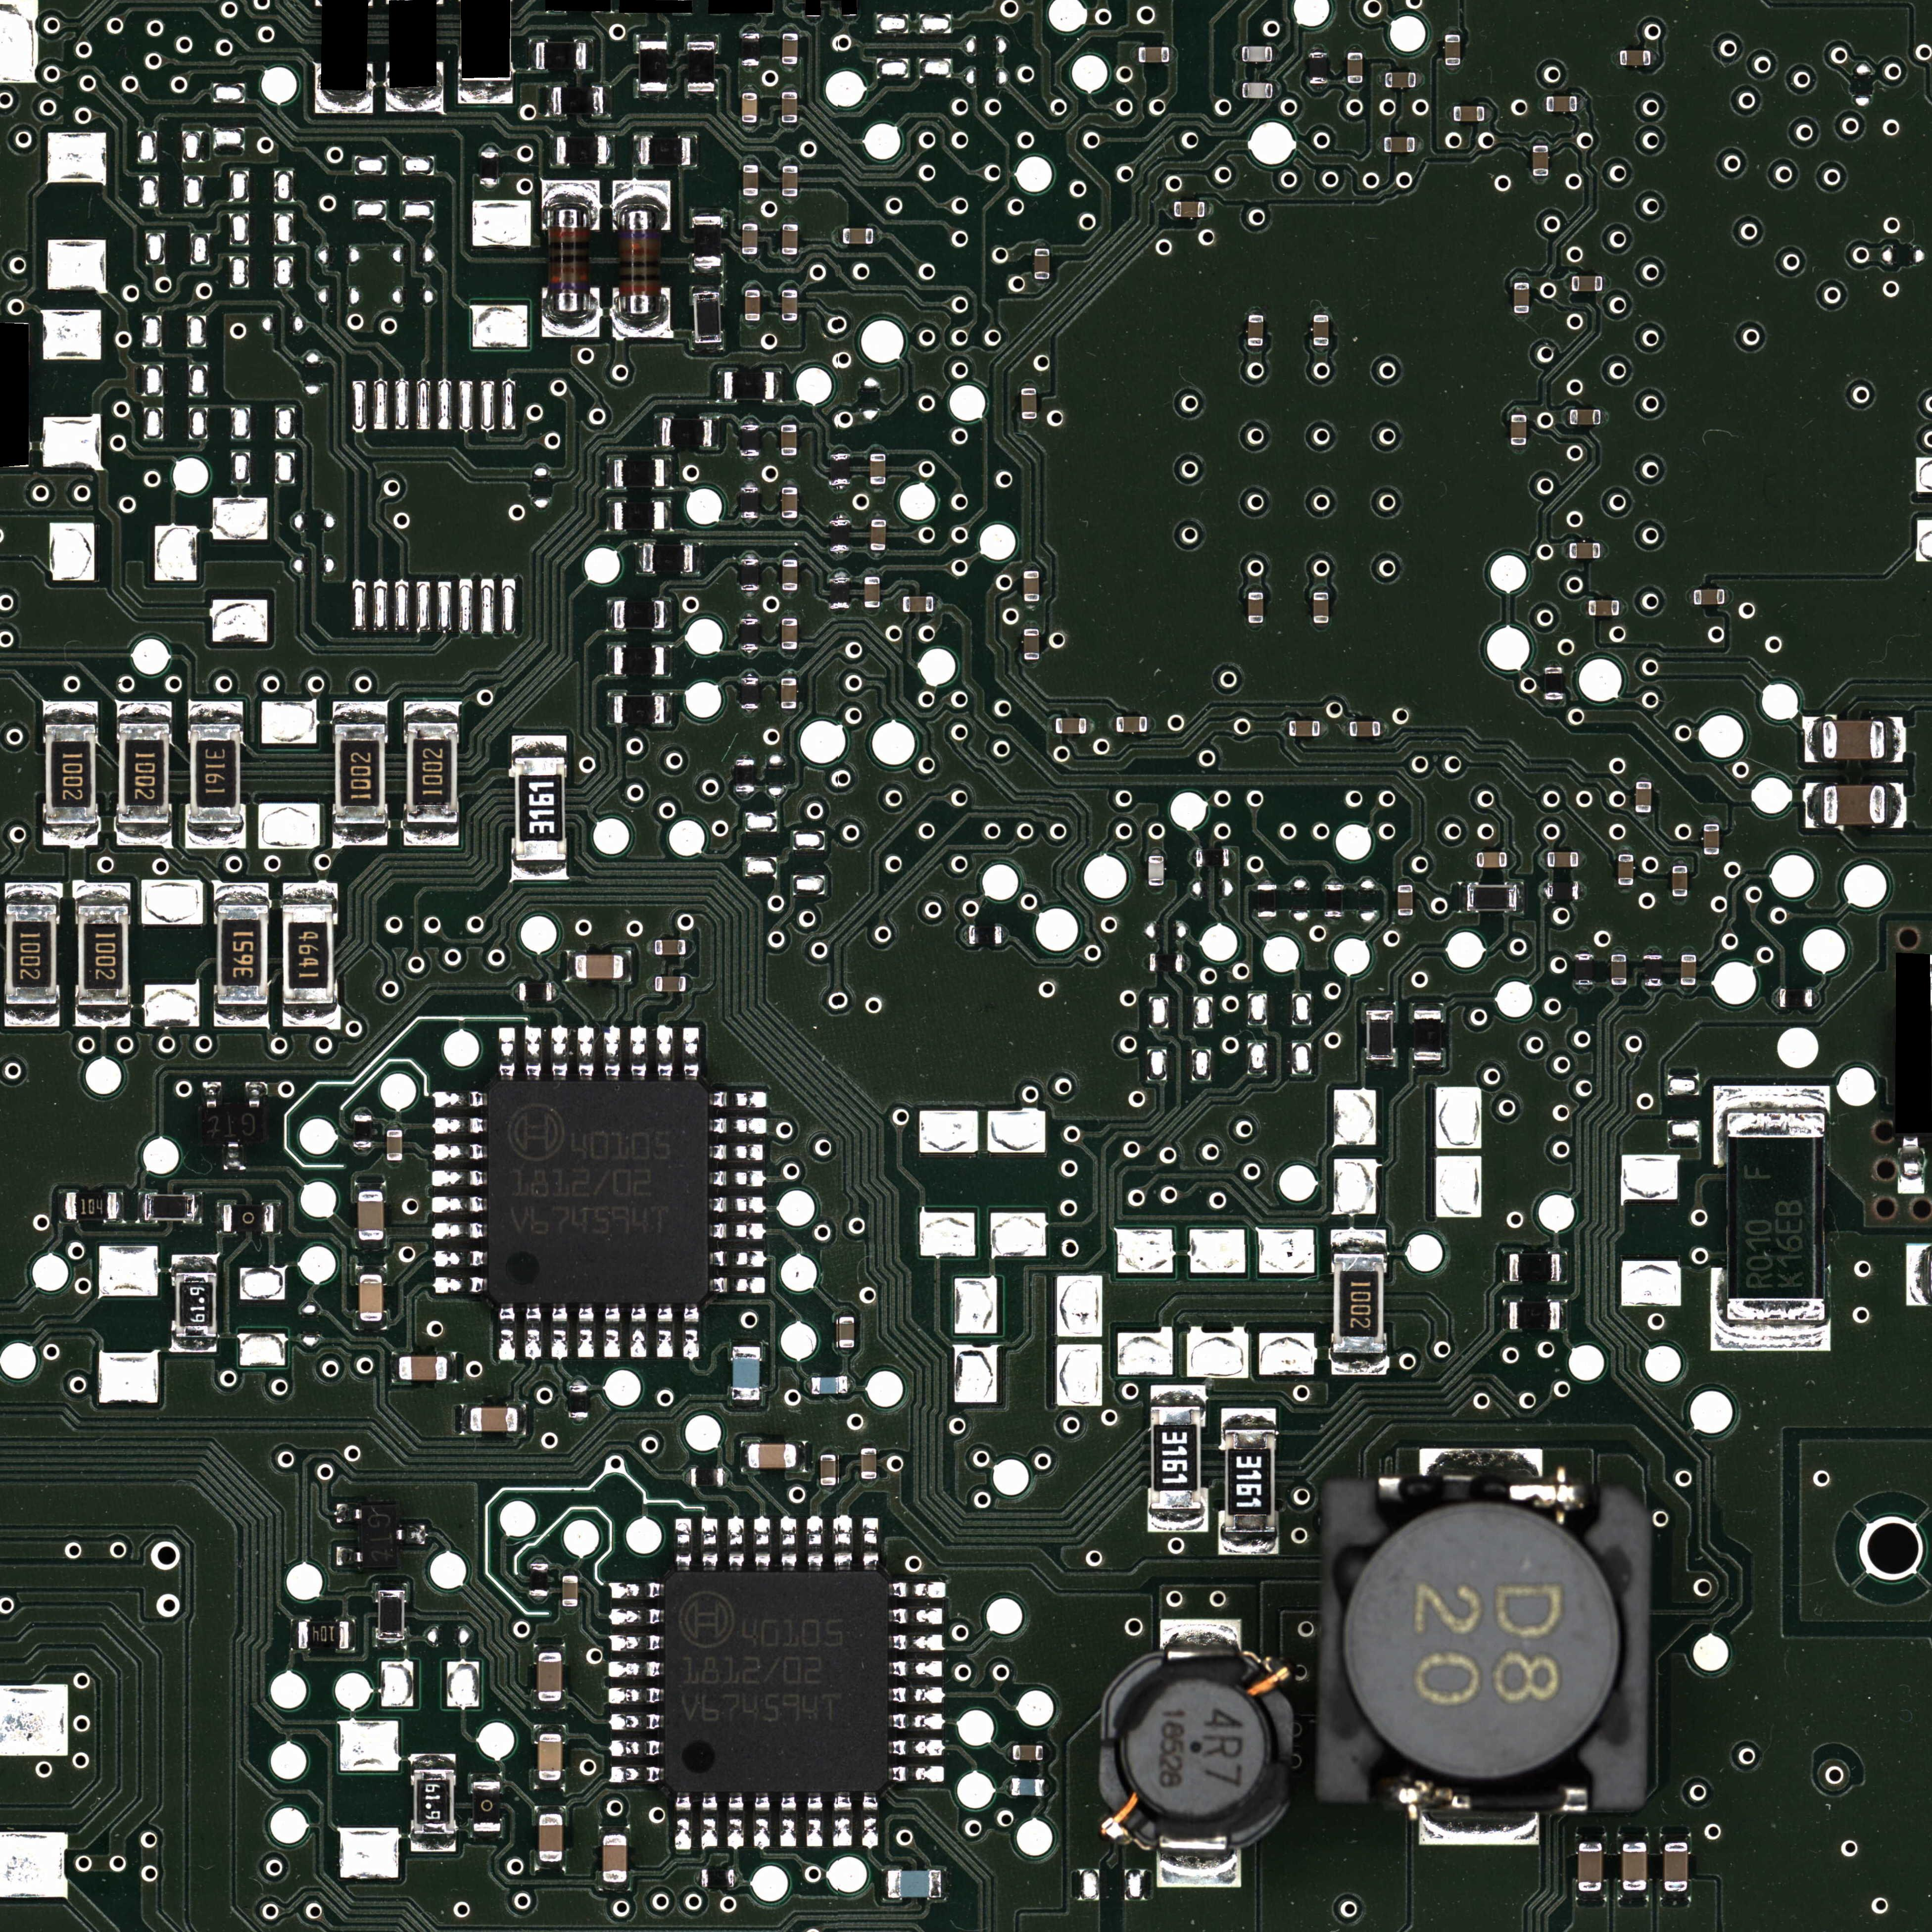Package: (1322, 1479, 1649, 1812), (663, 1571, 890, 1794), (488, 1079, 709, 1304), (1102, 1660, 1292, 1851), (1727, 1113, 1824, 1320), (1223, 1430, 1276, 1532), (513, 757, 566, 860), (1150, 1407, 1203, 1509), (405, 722, 458, 823), (1332, 1253, 1385, 1353), (189, 724, 242, 823), (44, 724, 96, 824), (334, 724, 386, 823), (78, 906, 129, 1005), (119, 724, 170, 823), (216, 906, 267, 1003), (283, 906, 334, 1003), (617, 205, 662, 317), (7, 904, 57, 1003), (547, 205, 591, 315), (412, 1769, 455, 1835), (175, 1272, 216, 1338), (1822, 720, 1886, 759), (1822, 786, 1886, 824), (361, 1504, 396, 1568), (888, 1870, 941, 1898), (614, 600, 663, 630), (639, 41, 667, 92), (732, 1346, 759, 1399), (299, 1621, 349, 1649), (472, 1782, 501, 1831), (694, 216, 722, 265), (554, 87, 603, 115), (614, 695, 663, 724), (614, 648, 663, 676), (1414, 1010, 1442, 1060), (724, 372, 773, 400), (223, 1205, 274, 1231), (688, 41, 715, 92), (1509, 1302, 1560, 1329), (694, 292, 720, 343), (65, 1192, 117, 1219), (1509, 1254, 1560, 1281), (642, 545, 694, 571), (557, 138, 607, 165), (536, 42, 586, 69), (662, 419, 711, 446), (357, 1191, 384, 1240), (640, 138, 690, 165), (1366, 1010, 1392, 1060), (614, 460, 663, 487), (614, 502, 663, 529), (145, 1194, 195, 1221), (379, 1591, 405, 1640), (1622, 1842, 1647, 1891), (1578, 1842, 1603, 1891), (1663, 1844, 1688, 1891), (471, 1407, 518, 1431), (748, 1444, 796, 1468), (538, 1734, 563, 1780), (398, 1357, 448, 1380), (538, 1652, 561, 1702), (1467, 886, 1516, 909), (575, 955, 623, 978), (540, 1813, 563, 1861), (359, 1274, 382, 1322), (603, 1835, 626, 1882), (518, 982, 552, 1001), (812, 1376, 847, 1394), (830, 520, 849, 552), (1780, 989, 1812, 1008), (479, 152, 499, 184), (702, 1868, 734, 1888), (1575, 954, 1594, 985), (970, 925, 1001, 945), (529, 1564, 548, 1596), (830, 453, 849, 485), (1545, 667, 1564, 699), (1196, 849, 1230, 867), (830, 579, 849, 609), (1012, 1778, 1044, 1796), (741, 34, 759, 65), (1325, 885, 1343, 916), (692, 1468, 724, 1486), (821, 1454, 839, 1486), (570, 1385, 587, 1417), (1150, 954, 1182, 971), (1258, 885, 1276, 916), (741, 559, 759, 591), (741, 487, 759, 518), (736, 759, 754, 791), (741, 425, 759, 456), (1546, 881, 1578, 899), (354, 1115, 372, 1146), (741, 678, 759, 708), (1635, 782, 1652, 812), (1309, 53, 1327, 83), (741, 619, 759, 649), (1644, 955, 1661, 985), (780, 678, 796, 709), (655, 977, 686, 993), (655, 939, 686, 955), (1672, 865, 1688, 897), (782, 617, 798, 649), (1247, 315, 1263, 347), (1571, 276, 1603, 292), (1012, 1744, 1044, 1760), (1021, 387, 1037, 419), (1619, 50, 1651, 65), (386, 1129, 402, 1161), (1693, 589, 1725, 605), (1033, 248, 1049, 280), (1569, 409, 1601, 425), (902, 596, 934, 612), (741, 223, 757, 255), (870, 453, 886, 485), (782, 559, 798, 591), (782, 487, 798, 518), (839, 1316, 855, 1348), (1511, 414, 1527, 446), (1398, 885, 1414, 916), (1589, 600, 1619, 616), (563, 1576, 579, 1606), (1247, 593, 1263, 623), (1290, 720, 1320, 736), (782, 92, 798, 122), (782, 290, 798, 320), (1385, 136, 1415, 152), (1681, 955, 1697, 985), (1175, 202, 1205, 218), (844, 228, 874, 244), (1139, 46, 1169, 62), (782, 34, 798, 64), (1569, 543, 1599, 559), (870, 520, 886, 550), (782, 166, 798, 196), (1242, 46, 1272, 62), (1056, 718, 1086, 734), (1548, 851, 1578, 867), (782, 225, 798, 255), (1313, 315, 1329, 345), (1116, 717, 1146, 732), (1242, 83, 1272, 99), (1477, 851, 1507, 867), (1546, 96, 1576, 111), (745, 290, 761, 320), (1313, 593, 1329, 623), (1532, 145, 1548, 175), (862, 1449, 878, 1479), (1704, 824, 1720, 855), (1023, 571, 1039, 602), (1612, 954, 1626, 985), (1445, 34, 1460, 65), (1024, 628, 1039, 660), (1148, 856, 1164, 885), (865, 577, 879, 607), (1348, 53, 1362, 83), (743, 165, 757, 195), (1385, 73, 1415, 87), (1619, 855, 1633, 885), (1350, 722, 1380, 736), (782, 425, 796, 455), (1514, 283, 1529, 313), (1454, 106, 1484, 120), (743, 94, 757, 122)
Solder: (1419, 1812, 1539, 1845), (1419, 1447, 1543, 1479), (1711, 1322, 1831, 1352), (1155, 1851, 1240, 1888), (1713, 1086, 1831, 1113), (1161, 1619, 1242, 1656), (1897, 1136, 1927, 1194), (186, 824, 246, 849), (612, 180, 671, 205), (541, 180, 600, 205), (541, 315, 600, 338), (283, 1005, 340, 1028), (4, 1005, 60, 1028), (1330, 1230, 1387, 1253), (1219, 1534, 1279, 1555), (117, 824, 172, 847), (214, 1005, 269, 1028), (333, 824, 387, 847), (42, 701, 97, 724), (458, 81, 513, 104), (73, 883, 131, 904), (1148, 1511, 1207, 1532), (4, 883, 62, 904), (612, 317, 671, 338), (1905, 1244, 1925, 1306), (1150, 1385, 1207, 1407), (188, 702, 244, 724), (403, 824, 458, 846), (76, 1007, 131, 1028), (214, 883, 269, 904), (333, 702, 387, 724), (511, 736, 566, 757), (1221, 1408, 1276, 1430), (283, 883, 338, 904), (405, 701, 460, 722), (386, 92, 444, 111), (1330, 1355, 1387, 1375), (511, 862, 568, 881), (42, 826, 97, 846), (117, 702, 172, 722), (833, 1514, 853, 1569), (711, 1249, 766, 1269), (432, 1221, 487, 1240), (313, 96, 373, 113), (609, 1713, 662, 1732), (433, 1249, 487, 1269), (833, 1794, 853, 1847), (609, 1660, 662, 1679), (890, 1606, 943, 1626), (890, 1582, 947, 1599), (711, 1090, 768, 1108), (709, 1116, 766, 1134), (709, 1169, 766, 1187), (727, 1794, 745, 1849), (609, 1608, 663, 1626), (711, 1196, 766, 1214), (890, 1633, 945, 1651), (890, 1686, 945, 1704), (711, 1276, 766, 1293), (890, 1739, 945, 1757), (432, 1196, 487, 1214), (432, 1116, 487, 1134), (499, 1306, 517, 1361), (890, 1713, 945, 1730), (890, 1766, 945, 1783), (432, 1169, 487, 1187), (711, 1223, 766, 1240), (701, 1794, 718, 1849), (754, 1794, 771, 1849), (550, 1304, 568, 1359), (610, 1582, 663, 1599), (433, 1143, 487, 1161), (433, 1090, 487, 1108), (711, 1143, 764, 1161), (609, 1686, 662, 1704), (609, 1739, 662, 1757), (577, 1304, 594, 1357), (727, 1516, 745, 1569), (630, 1306, 648, 1359), (433, 1276, 487, 1293), (890, 1660, 943, 1677), (656, 1304, 674, 1357), (603, 1304, 621, 1357), (754, 1516, 771, 1569), (603, 1026, 621, 1079), (701, 1518, 718, 1569), (610, 1766, 662, 1783), (676, 1794, 692, 1851), (1886, 782, 1905, 828), (1886, 717, 1905, 763), (780, 1516, 796, 1571), (683, 1304, 699, 1359), (807, 1516, 823, 1571), (656, 1024, 672, 1079), (609, 1635, 662, 1651), (780, 1794, 796, 1847), (676, 1518, 692, 1571), (683, 1026, 699, 1079), (630, 1026, 646, 1079), (579, 1026, 594, 1079), (525, 1306, 541, 1359), (525, 1026, 541, 1079), (862, 1794, 878, 1847), (807, 1794, 823, 1847), (552, 1026, 568, 1079), (863, 1518, 879, 1569), (499, 1028, 515, 1079), (410, 1835, 456, 1852), (172, 1254, 218, 1272), (1805, 782, 1822, 828), (1805, 717, 1822, 763), (170, 1338, 218, 1353), (410, 1753, 456, 1769), (398, 1525, 426, 1545), (336, 1546, 361, 1566), (336, 1504, 361, 1523), (543, 85, 554, 117), (534, 1723, 564, 1734), (685, 92, 718, 101), (603, 85, 612, 119), (690, 134, 699, 168), (715, 370, 724, 403), (354, 1240, 386, 1249), (356, 1322, 387, 1330), (534, 1805, 566, 1813), (1364, 1001, 1396, 1010), (686, 34, 718, 42), (586, 39, 594, 71), (607, 134, 616, 166), (548, 134, 557, 166), (632, 134, 640, 166), (534, 1861, 566, 1870), (391, 1352, 400, 1384), (796, 1440, 805, 1472), (623, 950, 632, 982), (566, 950, 575, 982), (1364, 1060, 1396, 1069), (356, 1182, 386, 1191), (356, 1265, 386, 1274), (448, 1352, 456, 1382), (711, 418, 720, 448), (600, 1882, 630, 1891), (600, 1826, 630, 1835), (534, 1780, 564, 1789), (534, 1644, 564, 1652), (1619, 1891, 1649, 1900), (1661, 1835, 1691, 1844), (1412, 1001, 1442, 1010), (1412, 1060, 1442, 1069), (1559, 1300, 1568, 1330), (1576, 1891, 1605, 1900), (1619, 1833, 1647, 1842), (1661, 1891, 1690, 1900), (529, 39, 536, 73), (690, 267, 724, 274), (690, 209, 724, 216), (690, 285, 724, 292), (690, 343, 724, 350), (637, 34, 669, 41), (274, 1201, 281, 1233), (637, 92, 669, 99), (655, 416, 662, 448), (663, 499, 671, 531), (663, 600, 671, 632), (665, 646, 672, 678), (290, 1619, 297, 1651), (216, 1201, 223, 1233), (117, 1191, 124, 1223), (1502, 1299, 1509, 1330), (1502, 1251, 1509, 1283), (775, 372, 782, 402), (663, 458, 671, 488), (607, 458, 614, 488), (607, 501, 614, 531), (694, 543, 701, 573), (635, 543, 642, 573), (607, 600, 614, 630), (607, 646, 614, 676), (663, 694, 671, 724), (607, 694, 614, 724), (471, 1775, 501, 1782), (534, 1702, 564, 1709), (377, 1583, 407, 1591), (462, 1405, 469, 1435), (518, 1405, 525, 1435), (195, 1192, 202, 1223), (138, 1192, 145, 1223), (58, 1191, 65, 1221), (741, 1442, 748, 1472), (1575, 1835, 1605, 1842), (1516, 883, 1523, 913), (1460, 883, 1467, 913), (881, 1870, 888, 1900), (1560, 1253, 1568, 1283), (472, 1831, 501, 1838), (377, 1640, 405, 1647), (732, 1339, 761, 1346), (732, 1399, 759, 1407), (830, 511, 849, 520), (830, 485, 849, 494), (1812, 989, 1821, 1008), (349, 1619, 354, 1651), (1247, 304, 1263, 315), (941, 1868, 947, 1900), (743, 25, 761, 34), (782, 25, 800, 34), (780, 455, 798, 464), (646, 975, 655, 993), (694, 1870, 702, 1888), (1507, 851, 1516, 869), (1468, 851, 1477, 869), (1309, 83, 1327, 92), (386, 1122, 403, 1131), (743, 195, 759, 203), (782, 157, 798, 166), (743, 156, 759, 165), (782, 83, 798, 92), (741, 83, 757, 92), (782, 64, 798, 73), (782, 416, 798, 425), (646, 939, 655, 955), (563, 1568, 579, 1576), (531, 1596, 547, 1605), (870, 550, 886, 559), (870, 511, 886, 520), (1023, 563, 1039, 571), (1599, 543, 1608, 559), (1576, 96, 1585, 111), (1376, 71, 1385, 87), (1612, 50, 1621, 65), (1651, 50, 1660, 65), (780, 552, 800, 559), (830, 570, 849, 577), (830, 552, 849, 559), (830, 446, 849, 453), (561, 1606, 580, 1614), (552, 982, 559, 1001), (734, 1868, 741, 1888), (1773, 989, 1780, 1008), (1578, 881, 1585, 901), (1323, 878, 1343, 885), (1610, 985, 1628, 993), (743, 283, 761, 290), (741, 216, 759, 223), (741, 65, 759, 73), (741, 456, 759, 464), (741, 418, 759, 425), (741, 479, 759, 487), (741, 518, 759, 525), (741, 552, 759, 559), (741, 591, 759, 598), (741, 649, 759, 656), (741, 671, 759, 678), (741, 708, 759, 715), (780, 709, 798, 717), (780, 671, 798, 678), (780, 649, 798, 656), (780, 610, 798, 617), (780, 591, 798, 598), (736, 752, 754, 759), (529, 1557, 547, 1564), (570, 1417, 587, 1424), (570, 1378, 587, 1385), (724, 1468, 731, 1486), (685, 1468, 692, 1486), (847, 1376, 855, 1394), (805, 1376, 812, 1394), (1575, 985, 1592, 993), (1575, 947, 1592, 954), (1396, 916, 1414, 924), (1325, 916, 1343, 924), (1258, 916, 1276, 924), (1258, 878, 1276, 885), (1001, 927, 1008, 945), (962, 925, 970, 943), (1545, 701, 1562, 708), (1545, 660, 1562, 667), (1513, 313, 1530, 320), (1603, 274, 1610, 292), (1484, 106, 1493, 120), (1415, 73, 1424, 87), (1348, 44, 1362, 53), (1309, 46, 1327, 53), (1247, 345, 1265, 352), (1021, 419, 1039, 426), (1033, 280, 1051, 287), (1033, 241, 1051, 248), (874, 226, 881, 244), (837, 226, 844, 244), (354, 1108, 372, 1115), (1532, 177, 1548, 184), (782, 283, 798, 290), (745, 320, 761, 327), (782, 255, 798, 262), (782, 196, 798, 203), (741, 124, 757, 131), (782, 124, 798, 131), (782, 479, 798, 487), (686, 939, 694, 955), (686, 977, 694, 993), (839, 1348, 855, 1355), (839, 1309, 855, 1316), (1645, 948, 1661, 955), (1645, 985, 1661, 993), (1681, 985, 1697, 993), (1681, 947, 1697, 954), (1578, 851, 1585, 867), (1541, 851, 1548, 867), (1398, 878, 1414, 885), (1148, 885, 1164, 892), (1148, 849, 1164, 856), (1146, 717, 1154, 732), (1109, 717, 1116, 732), (863, 570, 879, 577), (870, 485, 886, 492), (870, 446, 886, 453), (1617, 885, 1633, 892), (1617, 847, 1633, 855), (1672, 897, 1688, 904), (1672, 858, 1688, 865), (1704, 855, 1720, 862), (1704, 817, 1720, 824), (1635, 812, 1651, 819), (1637, 775, 1652, 782), (1582, 600, 1589, 616), (1619, 600, 1626, 616), (1511, 446, 1527, 453), (1511, 407, 1527, 414), (1513, 276, 1529, 283), (1532, 138, 1548, 145), (1235, 46, 1242, 62), (1272, 83, 1279, 99), (1168, 202, 1175, 218), (1205, 202, 1212, 218), (1169, 46, 1177, 62), (1132, 46, 1139, 62), (1313, 308, 1329, 315), (1283, 720, 1290, 736), (1343, 720, 1350, 736), (1313, 623, 1329, 630), (1313, 586, 1329, 593), (1247, 623, 1263, 630), (1247, 586, 1263, 593), (1021, 380, 1037, 387), (1686, 589, 1693, 605), (481, 145, 497, 152), (386, 1161, 402, 1168), (354, 1148, 370, 1155), (830, 609, 849, 614), (1612, 947, 1626, 954), (1024, 602, 1039, 609), (1024, 621, 1039, 628), (1024, 660, 1039, 667), (1447, 106, 1454, 120), (1348, 83, 1362, 90), (1445, 65, 1460, 73), (1320, 722, 1327, 736), (1380, 722, 1387, 736), (1725, 589, 1732, 603), (741, 255, 759, 260), (782, 218, 800, 223), (741, 612, 759, 617), (736, 793, 754, 798), (513, 984, 518, 1001), (821, 1486, 839, 1491), (1541, 881, 1546, 899), (1182, 954, 1187, 971), (1145, 954, 1150, 971), (1566, 274, 1571, 292), (1237, 81, 1242, 99), (1007, 1778, 1012, 1796), (1044, 1778, 1049, 1796), (840, 16, 858, 21), (782, 322, 798, 327), (782, 518, 798, 524), (821, 1449, 837, 1454), (862, 1479, 878, 1484), (862, 1442, 878, 1447), (1230, 849, 1235, 865), (1191, 849, 1196, 865), (1086, 718, 1092, 734), (897, 596, 902, 612), (1564, 543, 1569, 559), (1564, 409, 1569, 425), (1601, 409, 1606, 425), (1541, 96, 1546, 111), (1415, 136, 1421, 152), (1378, 136, 1384, 152), (1445, 28, 1461, 34), (1313, 347, 1329, 352), (481, 184, 497, 189), (1044, 1744, 1049, 1760), (1007, 1744, 1012, 1760), (805, 18, 821, 23), (1051, 718, 1056, 732), (865, 609, 879, 614), (934, 596, 939, 610), (1272, 46, 1277, 60)
